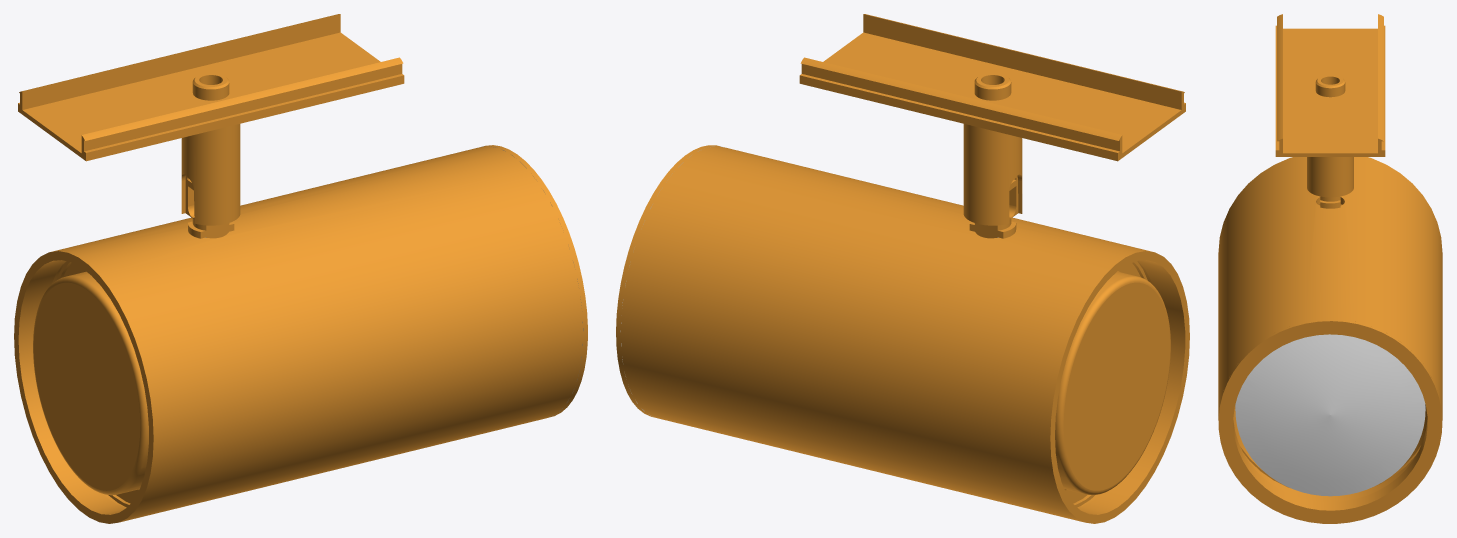
Rendered from LisseSolutionISpot.glb.
The picture shows the model from 3 angles, left to right: view 1: azimuth 30°, elevation 25°; view 2: azimuth 150°, elevation 25°; view 3: azimuth 270°, elevation 25°; orthographic projection. The views are drawn at different scales.
Visible parts, largest first — view 1: 3DGeom-11, 3DGeom-5, 3DGeom-4, 3DGeom-1, 3DGeom-9; view 2: 3DGeom-11, 3DGeom-5, 3DGeom-4, 3DGeom-1, 3DGeom-9; view 3: 3DGeom-11, 3DGeom-7, 3DGeom-5, 3DGeom-9, 3DGeom-1, 3DGeom-3.
Boxes of the visible parts, left/top/right/bottom form: 3DGeom-11: left=14, top=146, right=583, bottom=523; 3DGeom-5: left=18, top=14, right=404, bottom=161; 3DGeom-4: left=33, top=263, right=148, bottom=503; 3DGeom-1: left=181, top=73, right=240, bottom=238; 3DGeom-9: left=481, top=145, right=587, bottom=417; 3DGeom-11: left=620, top=146, right=1189, bottom=523; 3DGeom-5: left=799, top=14, right=1185, bottom=161; 3DGeom-4: left=1055, top=263, right=1170, bottom=503; 3DGeom-1: left=963, top=73, right=1022, bottom=238; 3DGeom-9: left=616, top=145, right=720, bottom=417; 3DGeom-11: left=1218, top=157, right=1442, bottom=501; 3DGeom-7: left=1235, top=334, right=1425, bottom=496; 3DGeom-5: left=1275, top=14, right=1385, bottom=156; 3DGeom-9: left=1218, top=319, right=1442, bottom=523; 3DGeom-1: left=1307, top=75, right=1353, bottom=208; 3DGeom-3: left=1315, top=82, right=1345, bottom=97.
Bounding box in the file's own units: 0.1465 × 0.1226 × 0.076.
